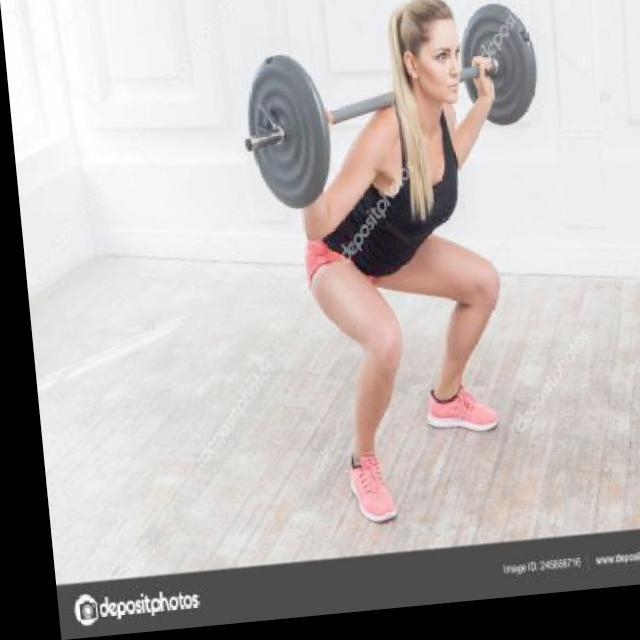barbell: (231, 53, 339, 224)
